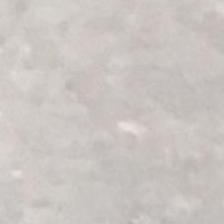Non_Crack: (23, 25, 217, 224)
